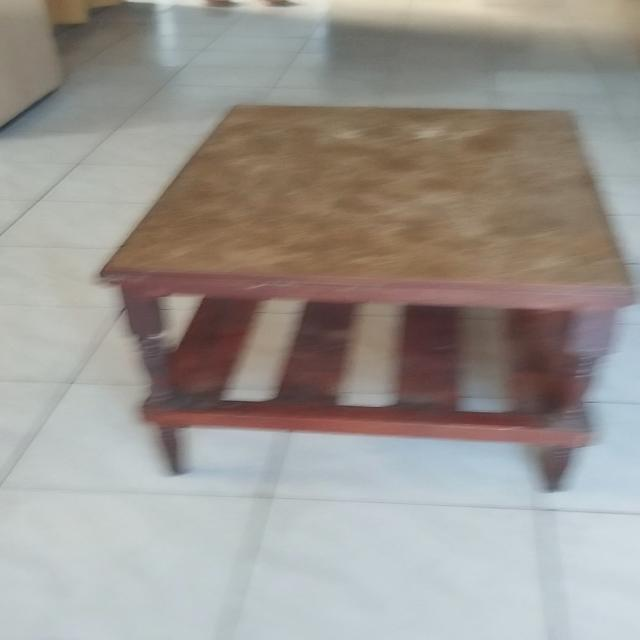table: (89, 99, 634, 498)
